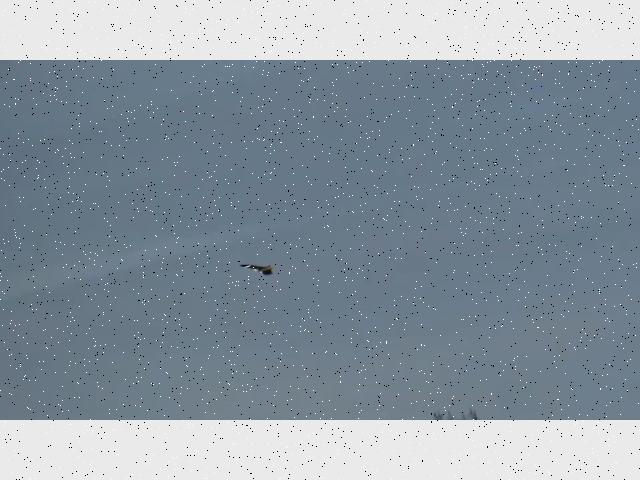Anti-Drone: (240, 265, 272, 275)
